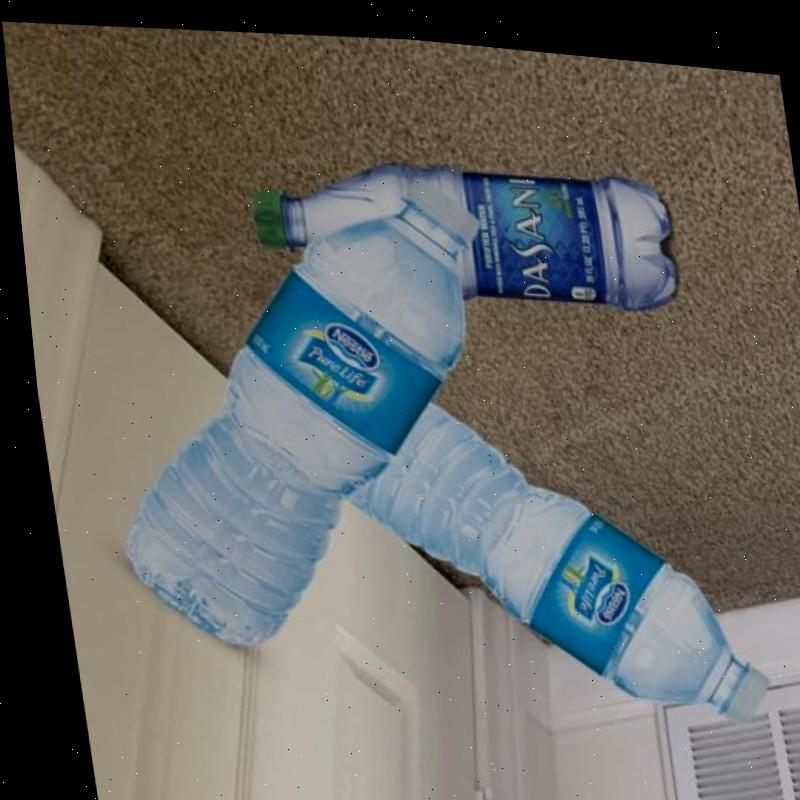botella: (59, 136, 536, 671), (319, 363, 760, 731), (239, 132, 680, 320)
